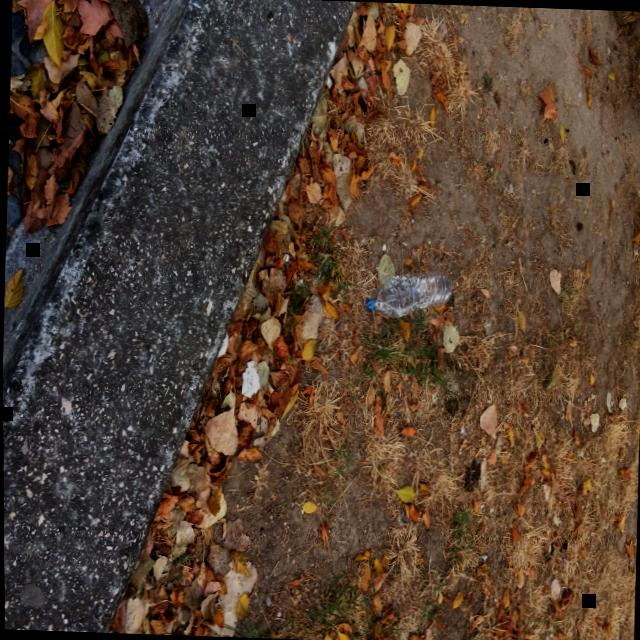Cigarette: (452, 36, 454, 48)
Clear plastic bottle: (363, 270, 451, 318)
